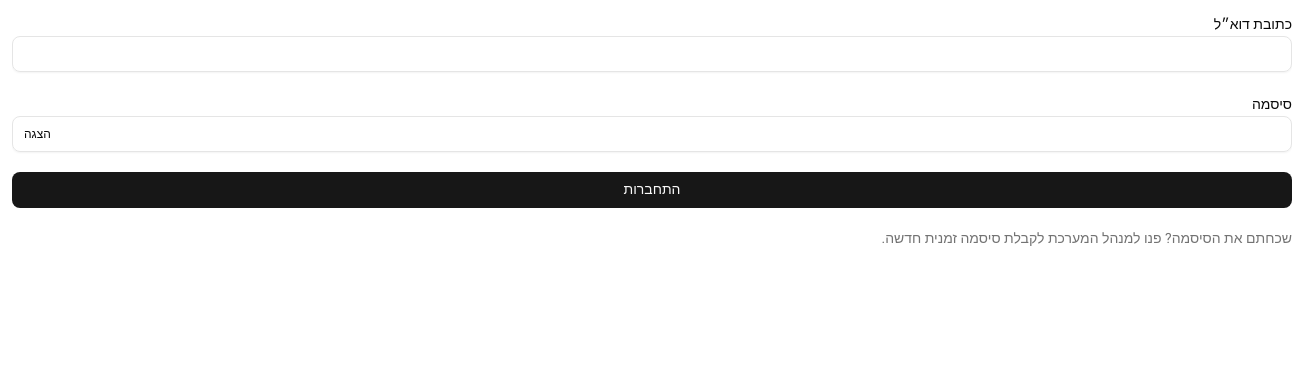
it: LoginForm › shows the Hebrew login failure without saying which field was wrong
This screenshot has width=1304, height=376.
Type "admin@example.test" into the field labelled "כתובת דוא״ל".
click(652, 54); type("admin@example.test")  # box [12, 36, 1292, 72]
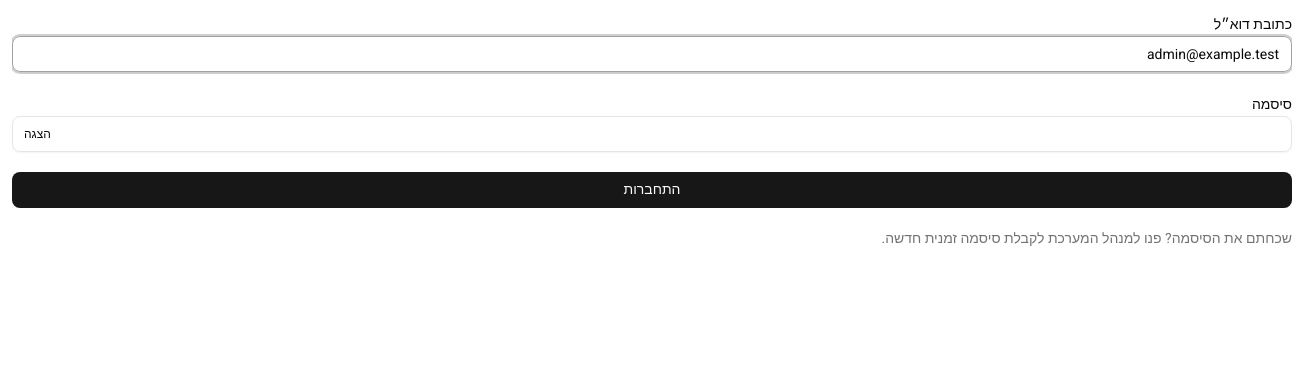
Type "wrong-password" into the password field labelled "סיסמה".
click(652, 134); type("wrong-password")  # box [12, 116, 1292, 152]
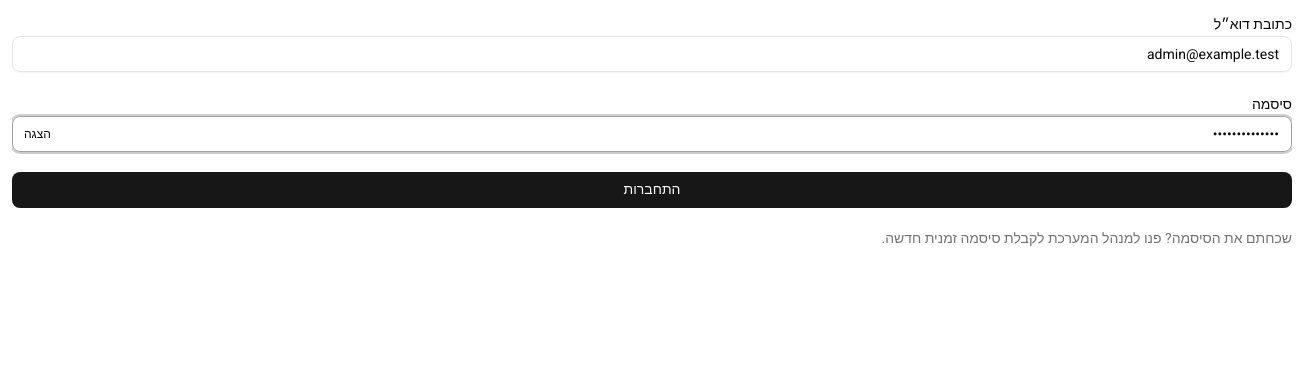
Click the button "התחברות".
click(652, 190)  # box [12, 172, 1292, 208]
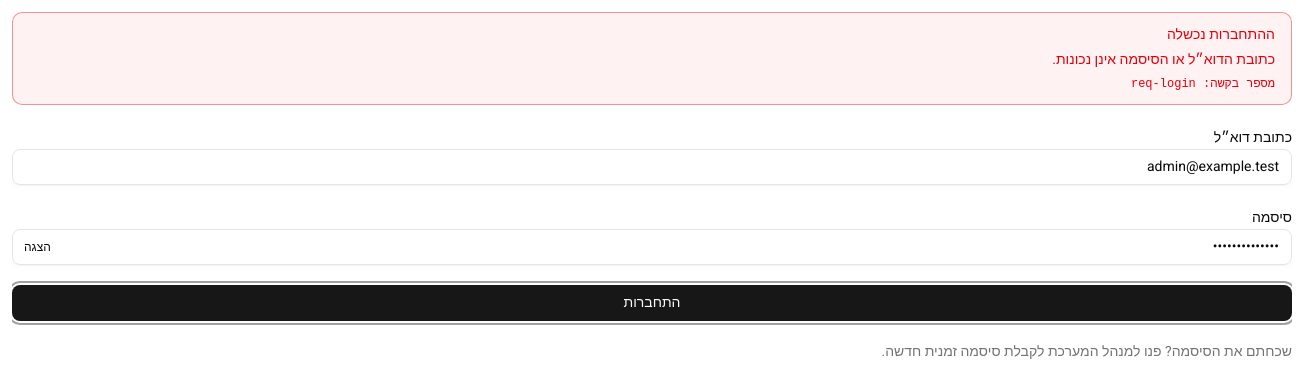
Expected: the text "ההתחברות נכשלה" is shown, [1167, 24, 1275, 45]
Expected: the text "כתובת הדוא״ל או הסיסמה אינן נכונות." is shown, [1052, 49, 1275, 70]
